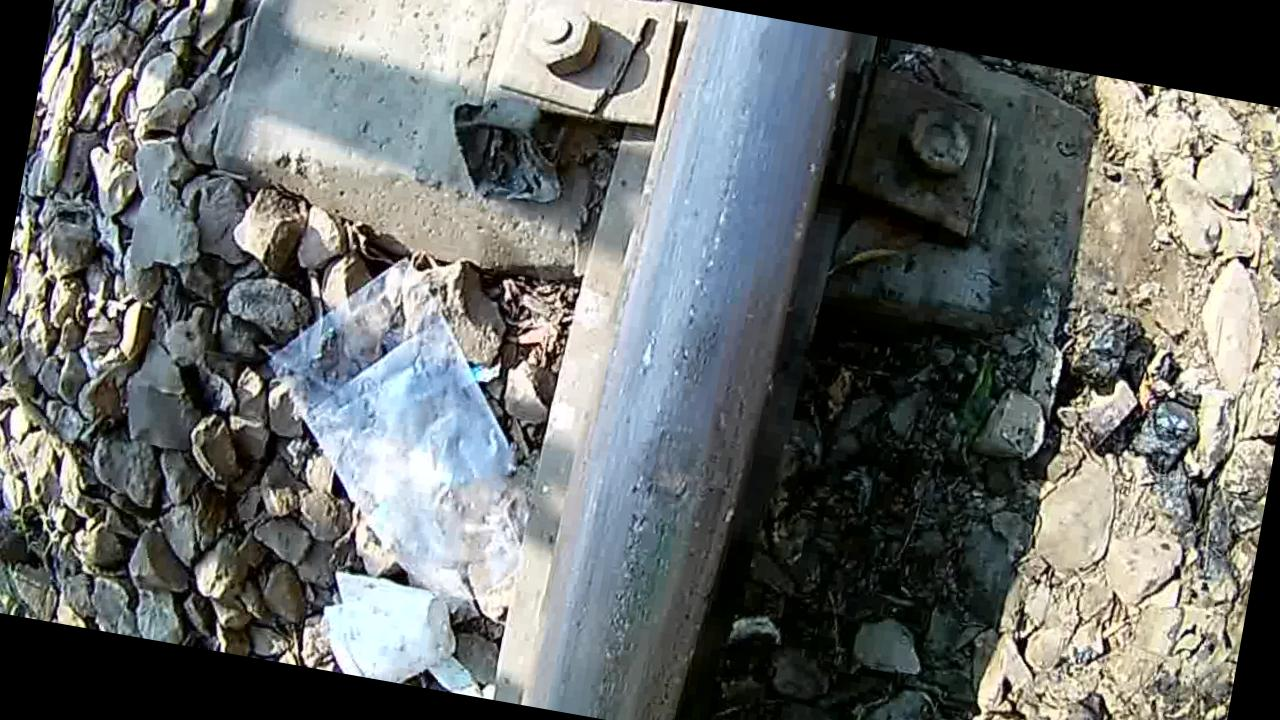bolt_missing: (586, 356, 756, 598)
